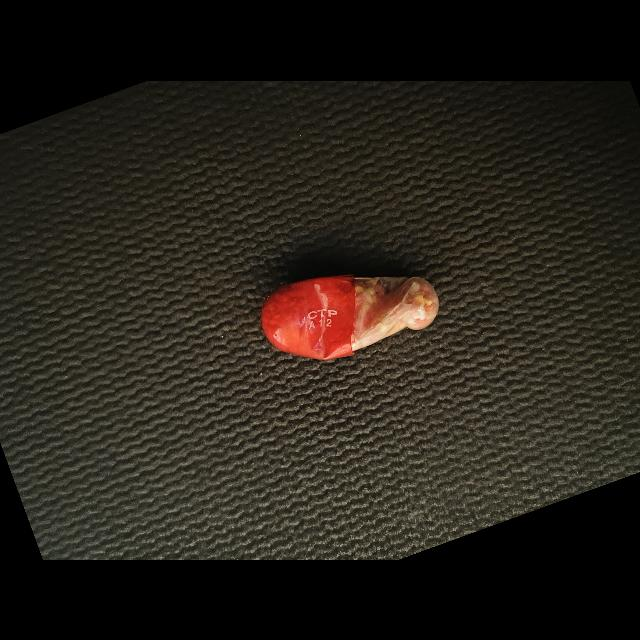Defective Capsule: (261, 274, 439, 360)
